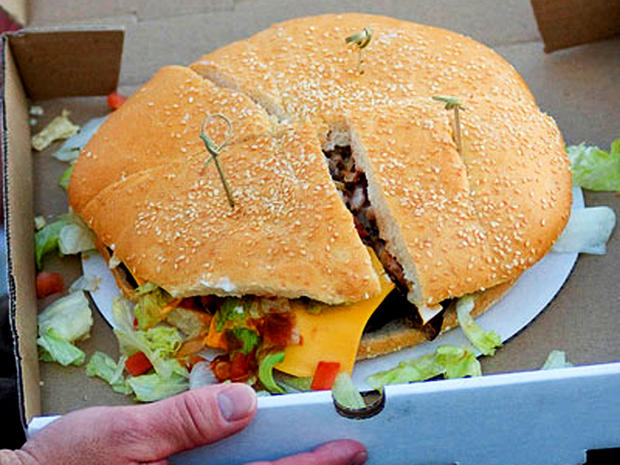hamburger_buns: (76, 25, 545, 324)
